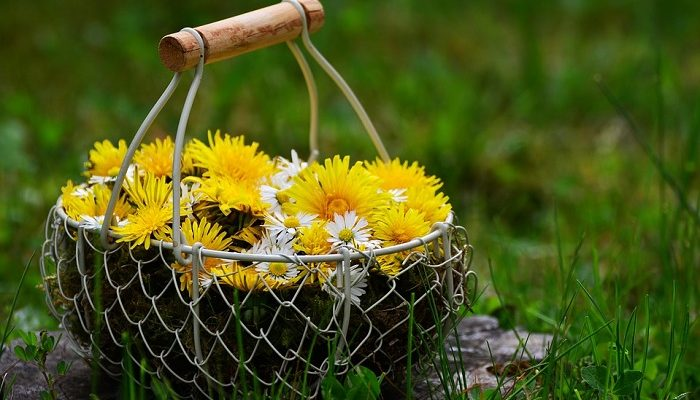dandelion: (192, 132, 271, 181), (293, 171, 376, 215), (391, 165, 439, 233), (60, 188, 120, 224), (198, 186, 259, 216), (126, 210, 168, 241), (191, 221, 235, 249), (139, 145, 178, 174)
